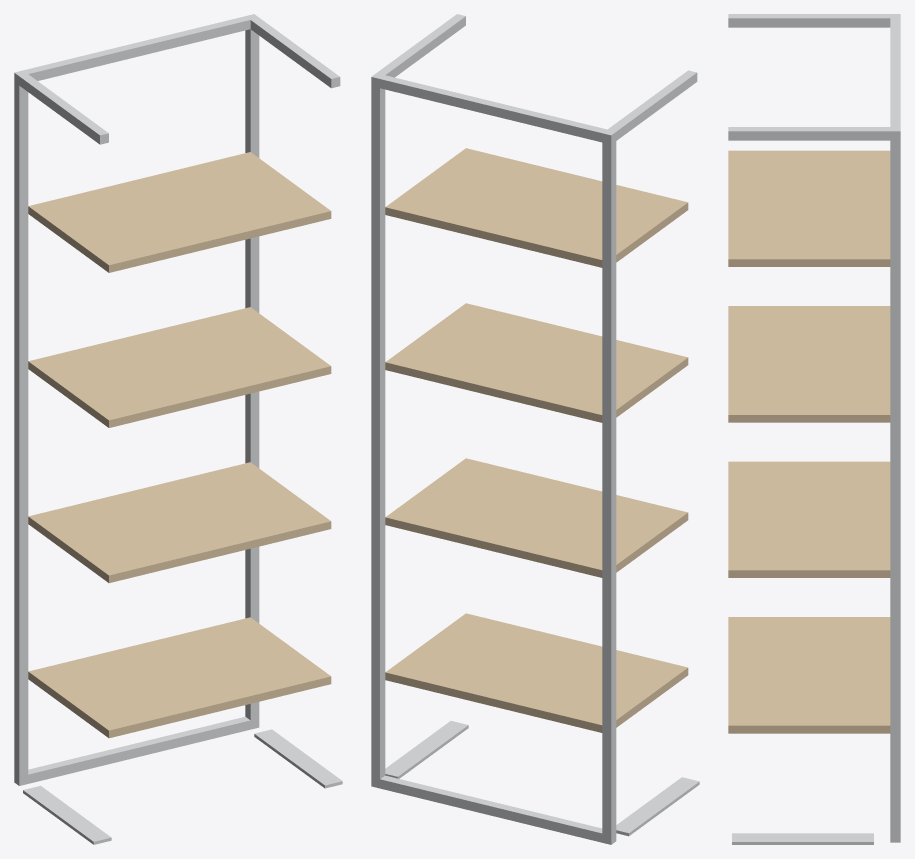
The picture shows the model from 3 angles, left to right: view 1: azimuth 30°, elevation 25°; view 2: azimuth 150°, elevation 25°; view 3: azimuth 270°, elevation 25°; orthographic projection.
Bounding box in the file's own units: 0.84 × 2.29 × 0.502.
